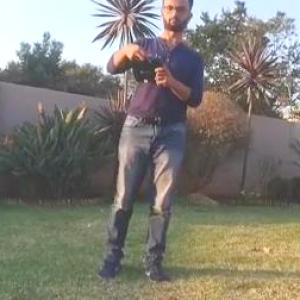follow: (90, 0, 210, 294)
